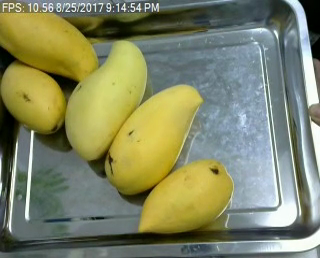Mango: (105, 79, 206, 192), (62, 37, 144, 158), (0, 1, 103, 85), (138, 154, 235, 237), (0, 57, 66, 139)
